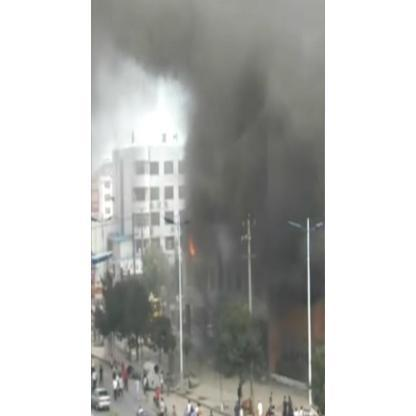smoke: (184, 82, 323, 226), (103, 0, 328, 87), (260, 226, 307, 316), (197, 226, 222, 263)
